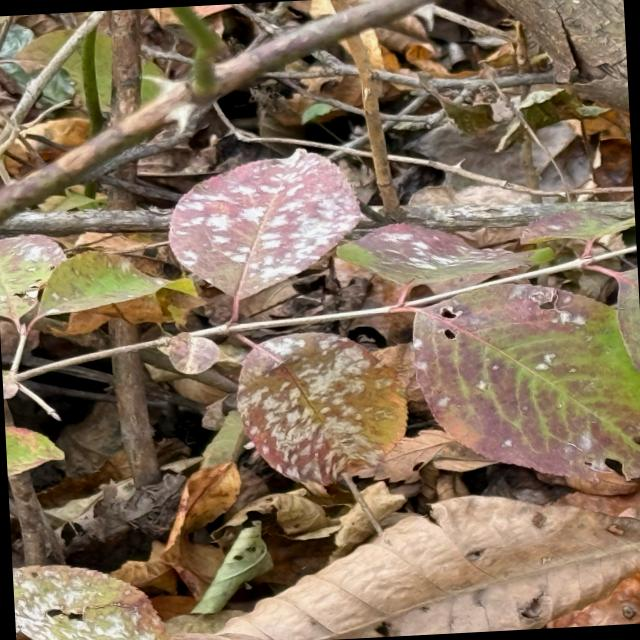powdery_mildew: (169, 150, 363, 299), (238, 332, 408, 485), (338, 224, 553, 294)
